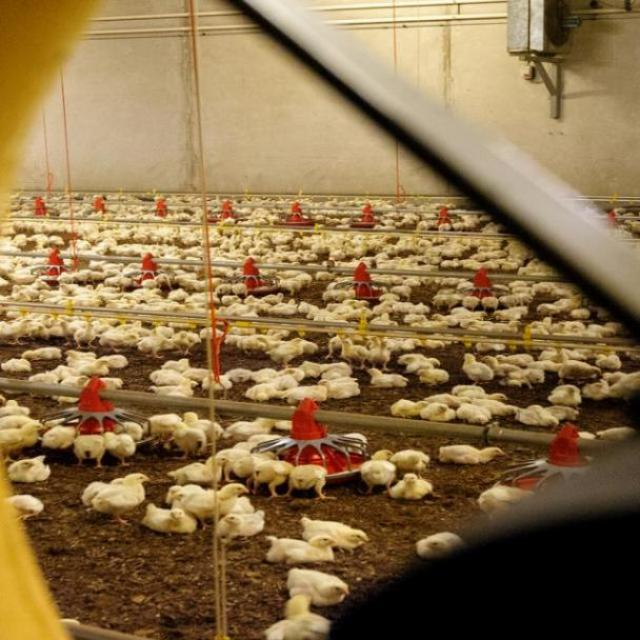Chicken: (0, 191, 639, 427), (0, 394, 329, 541), (29, 350, 128, 404), (285, 566, 351, 606), (299, 517, 368, 554), (266, 535, 334, 566), (358, 450, 396, 496), (283, 461, 322, 497), (381, 473, 431, 501), (390, 449, 431, 480), (415, 532, 462, 559), (9, 455, 52, 483), (437, 446, 505, 463), (9, 494, 42, 522), (0, 358, 29, 372)
